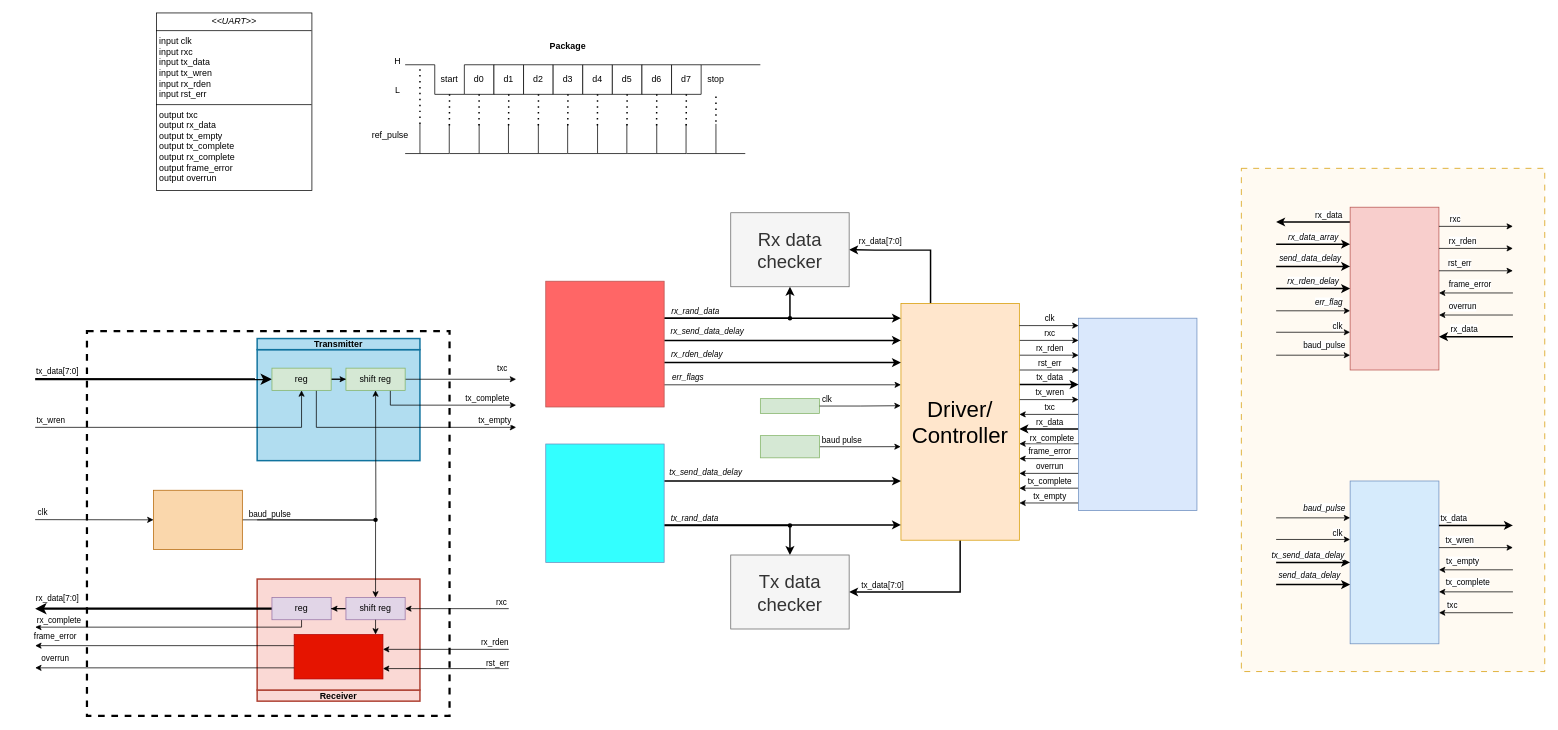
The diagram is 1558 pixels wide and 730 high, and some of its shapes have lost their labels. Each missing label, with the centre of its shape:
"baud pulse gen" goes at point 790,446.
"Baud Pulse Generator" goes at point 197,519.
"clk gen" goes at point 790,405.
"error handling unit" goes at point 338,656.
"rx controller" goes at point 1394,288.
"Rx randomizer" goes at point 604,343.
"tx controller" goes at point 1394,562.
"Tx randomizer" goes at point 604,502.
"UART" goes at point 1137,414.
